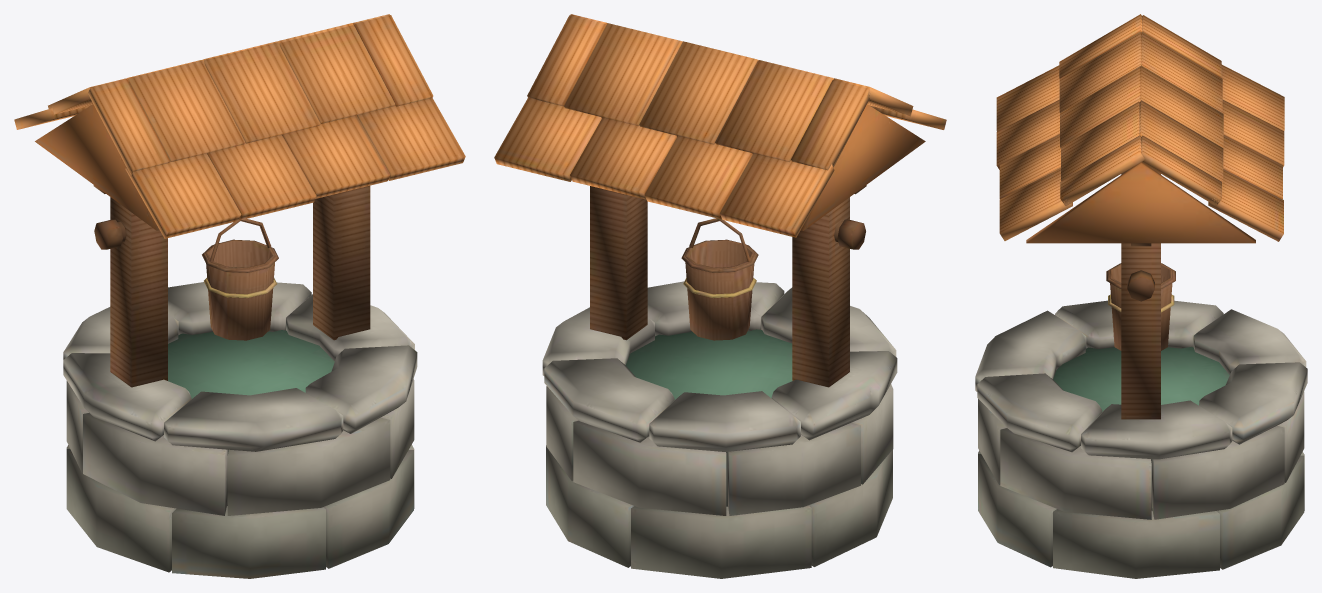
The model's file is well_4_low.glb.
3 renders of one model, left to right at view 1: azimuth 30°, elevation 25°; view 2: azimuth 150°, elevation 25°; view 3: azimuth 270°, elevation 25°, orthographic. The views are drawn at different scales.
Parts seen in each view (by area): view 1: well_4; view 2: well_4; view 3: well_4.
Boxes of the visible parts, x1,y1,x2,y2 form: well_4: (14, 14, 465, 578); well_4: (494, 14, 946, 578); well_4: (975, 14, 1307, 578).
Bounding box in the file's own units: 1.31 × 1.85 × 1.3.
1 material, 1 textured.
